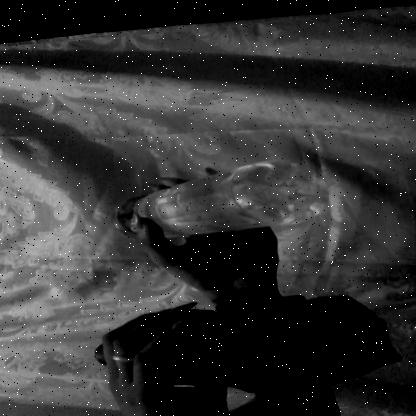Plastic Bottle: (78, 143, 365, 253)
